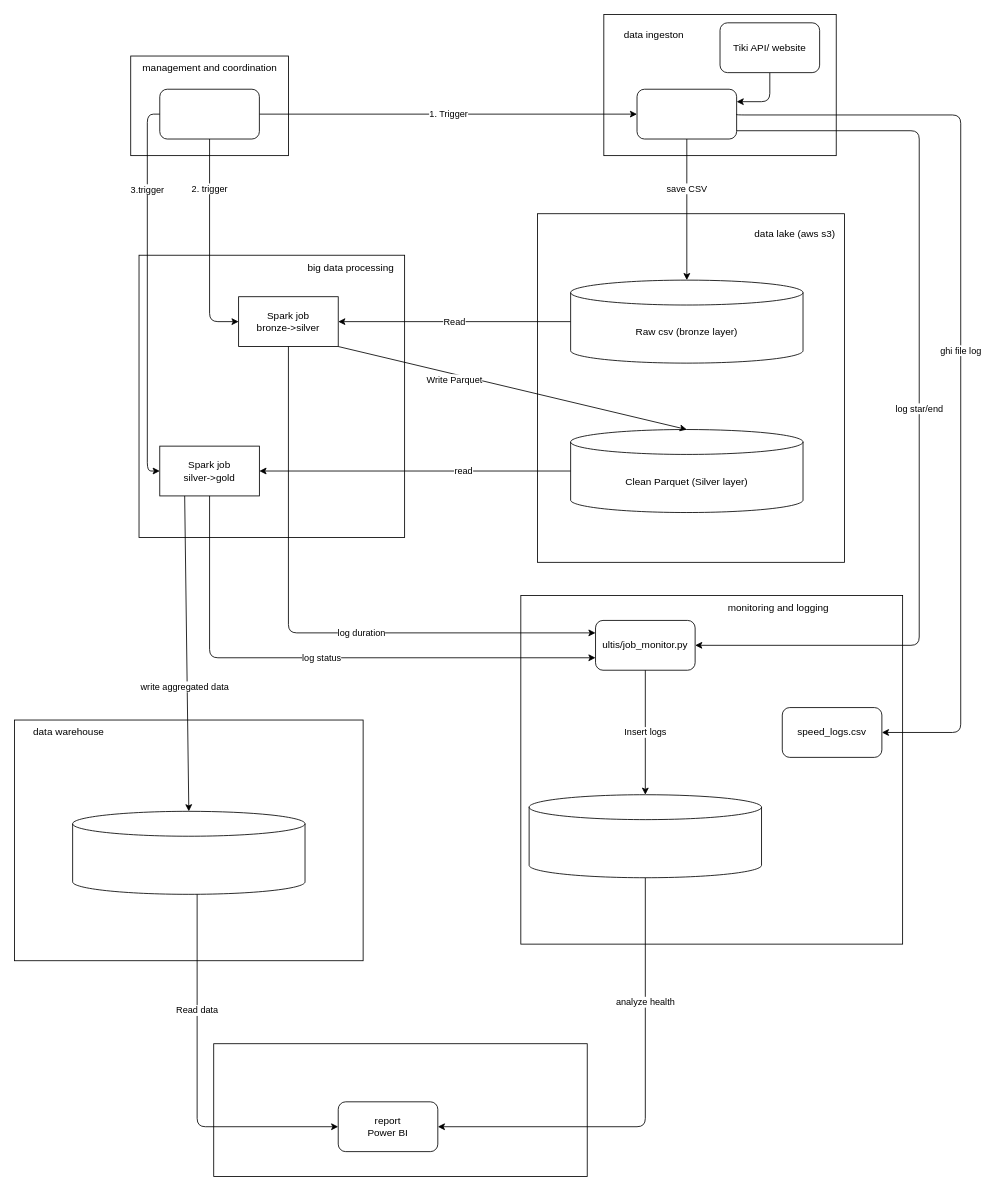
Image size: 996x1191. Some labels were removed from this diagram. The box of each missing label's shape, as (x1, y1, x2, y2) in pixels:
Apache Airflow: (159, 88, 259, 139)
pgadmin: (72, 810, 305, 894)
Python crawler container: (636, 88, 737, 139)
Table: pipeline_logs: (528, 794, 762, 878)
